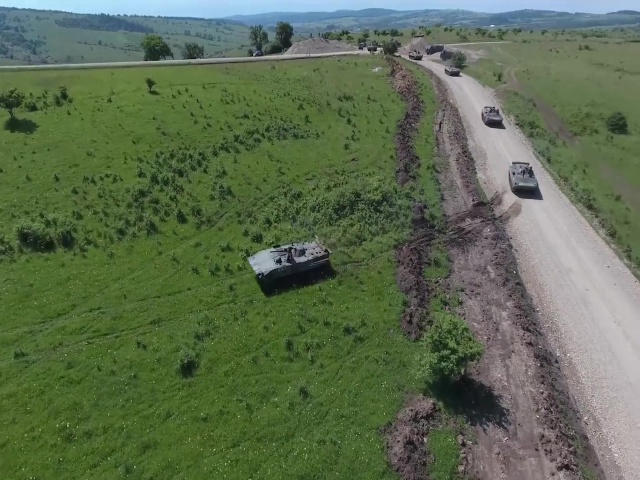vehicle: (247, 238, 333, 281), (507, 158, 540, 198), (480, 105, 503, 130), (444, 65, 461, 78), (408, 49, 421, 60)
